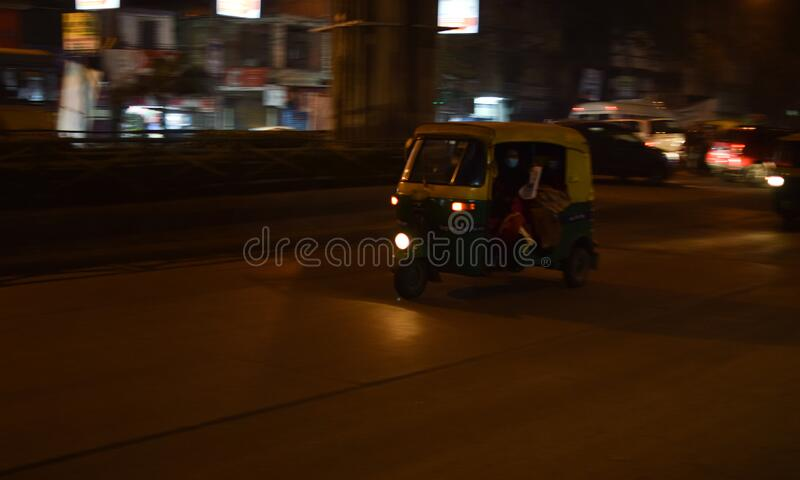rickshaw: (391, 116, 602, 292)
